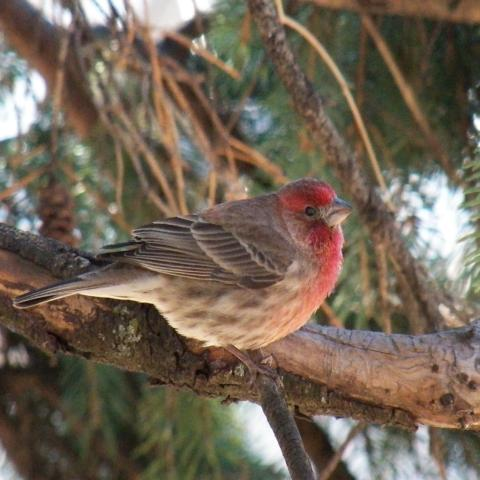bird: (11, 174, 354, 392)
